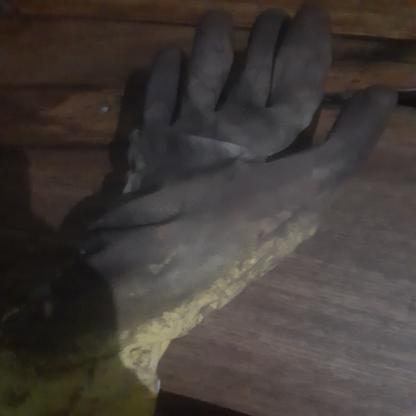gloved_hand: (6, 0, 400, 416)
